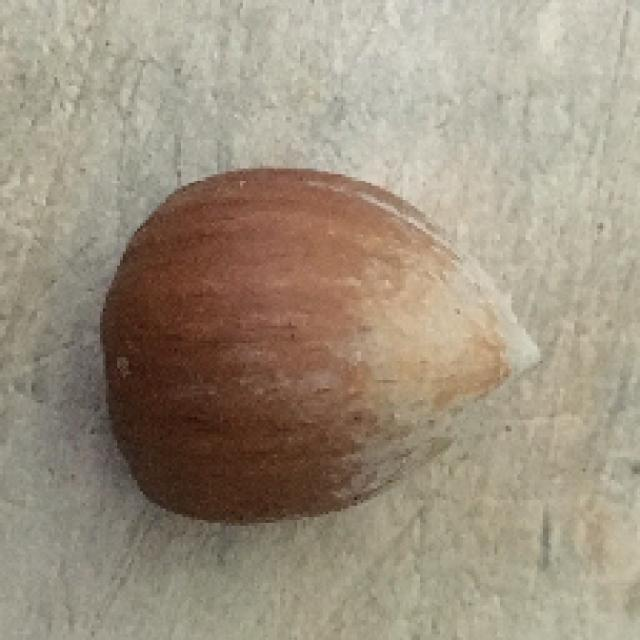qualityHazelnut: (84, 159, 535, 524)
